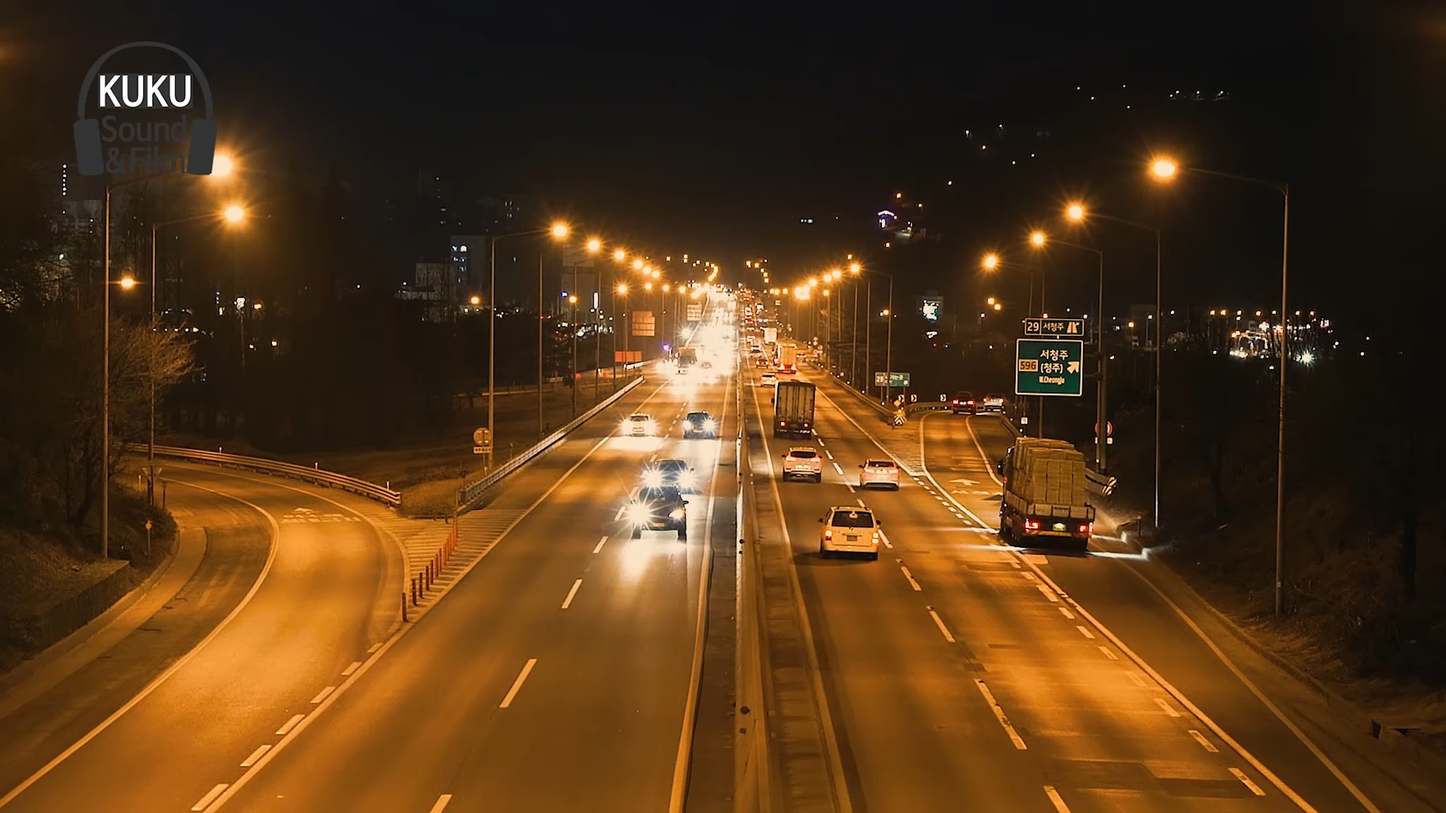car: (627, 487, 691, 540), (823, 508, 884, 559), (777, 447, 822, 481), (856, 456, 898, 488)
truck: (1001, 434, 1099, 549)
